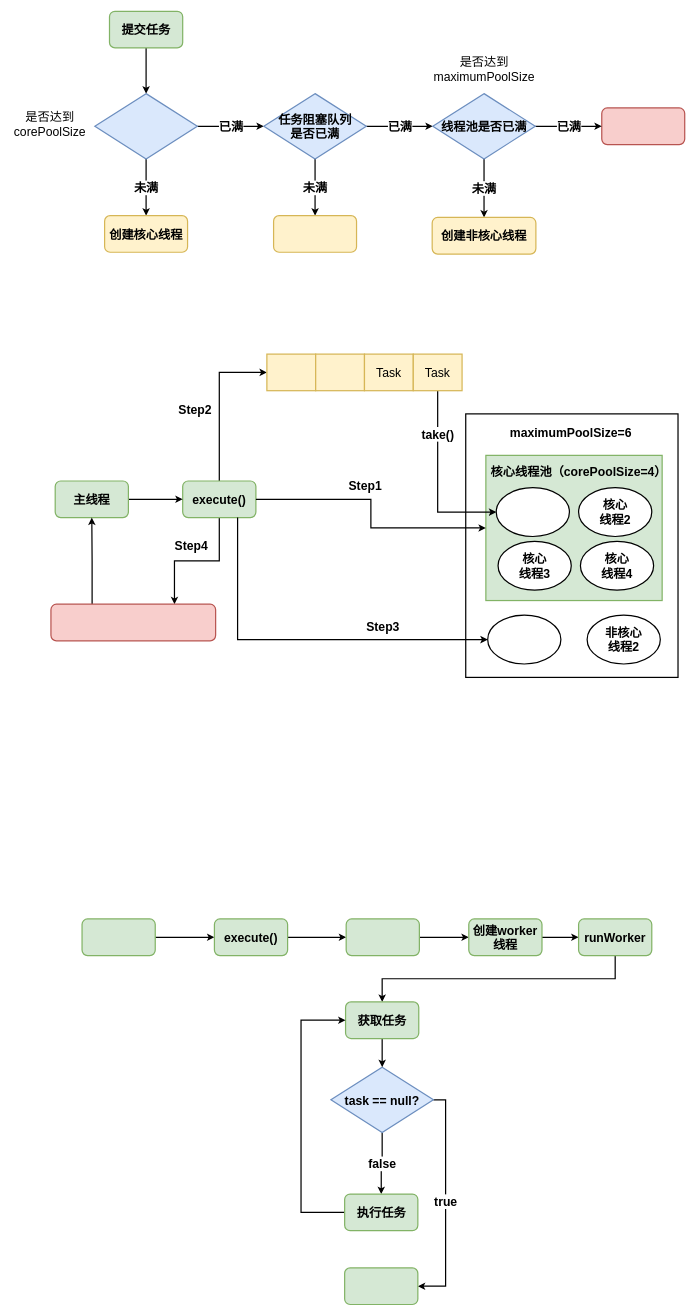
The diagram is 695 pixels wide and 1315 high, and some of its shapes have lost their labels. Here are the shapes that lost their labels. From the top down, the centre of each, then its label:
At point (146, 126): "核心线程池 是否已满".
At point (643, 126): "拒绝策略处理".
At point (315, 234): "加入任务队列".
At point (532, 512): "核心 线程1".
At point (133, 622): "RejectedExceptionHandler".
At point (524, 639): "非核心 线程1".
At point (118, 937): "开始".
At point (382, 937): "增加worker".
At point (381, 1286): "结束线程".
